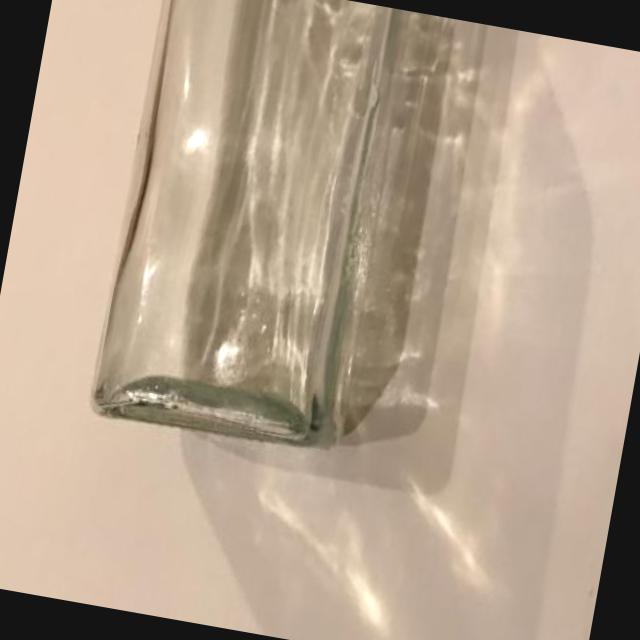chai_thuy_tinh: (93, 0, 391, 443)
